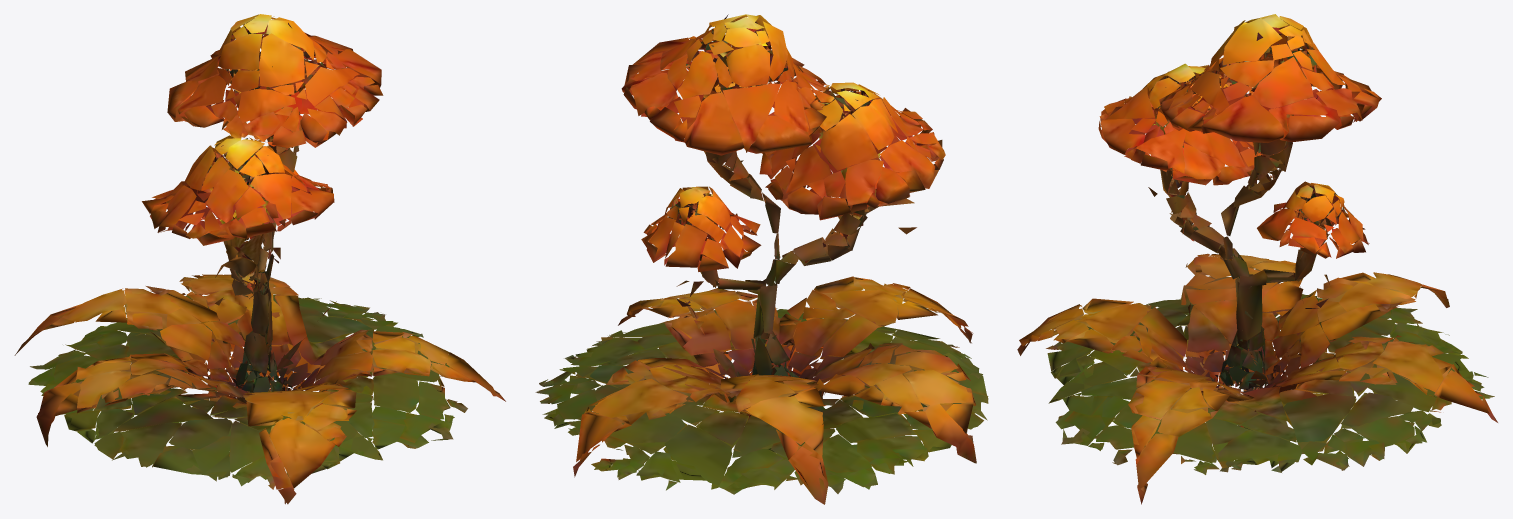
The model's file is mushrooms-amber.glb.
The picture shows the model from 3 angles, left to right: view 1: azimuth 30°, elevation 25°; view 2: azimuth 150°, elevation 25°; view 3: azimuth 270°, elevation 25°; orthographic projection. The views are drawn at different scales.
Parts seen in each view (by area): view 1: Mesh_0; view 2: Mesh_0; view 3: Mesh_0.
Boxes of the visible parts, x1=… form: Mesh_0: x1=14, y1=14, x2=505, y2=504; Mesh_0: x1=535, y1=14, x2=988, y2=504; Mesh_0: x1=1017, y1=14, x2=1497, y2=504.
Size of the model in its own units: 0.4873 by 0.4991 by 0.4899.
1 material, 1 textured.
